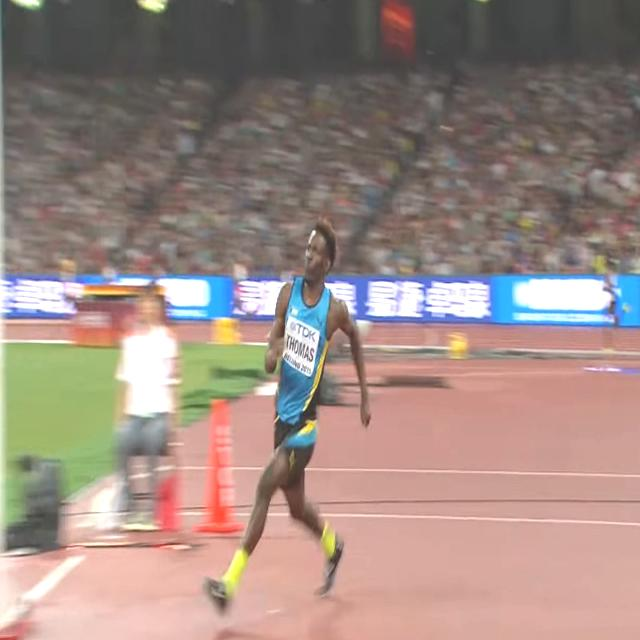run: (205, 220, 372, 614)
